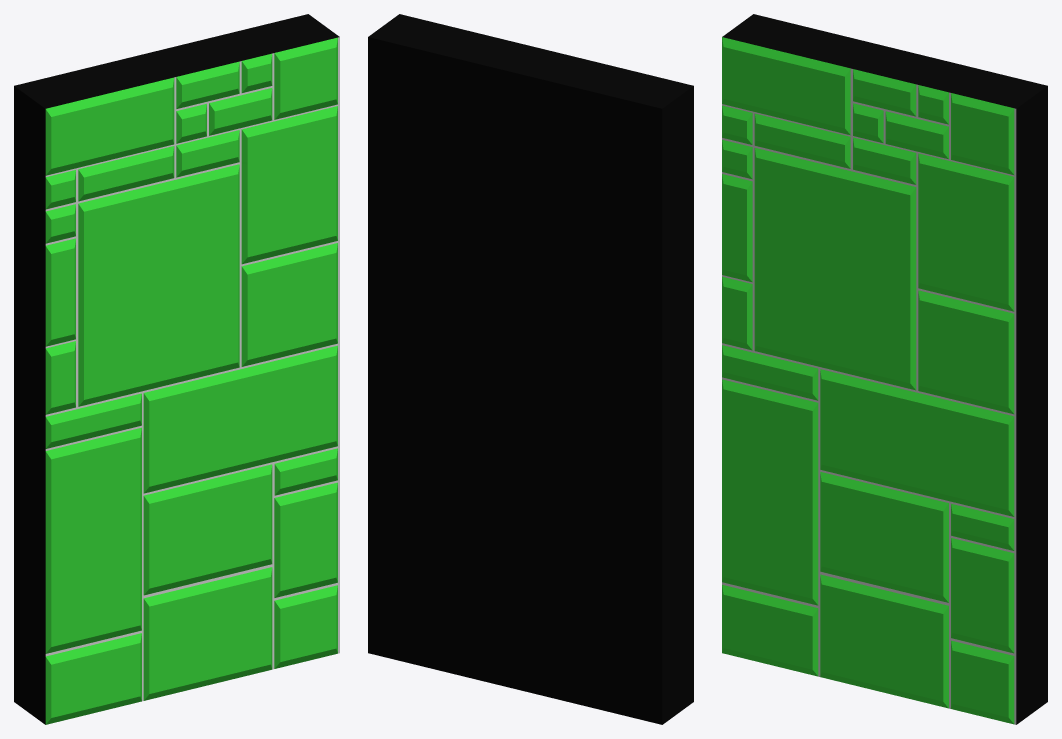
File: Wall 2.0.fbx
3 views of the same model, side by side, from view 1: azimuth 30°, elevation 25°; view 2: azimuth 150°, elevation 25°; view 3: azimuth 330°, elevation 25° (orthographic).
Visible parts, largest first — view 1: To Make Wall Original.002; view 2: To Make Wall Original.002; view 3: To Make Wall Original.002.
Part boxes in pixels (x1,y1,x2,y2): To Make Wall Original.002: (14, 14, 339, 724); To Make Wall Original.002: (368, 14, 693, 724); To Make Wall Original.002: (722, 14, 1047, 724).
Bounding box in the file's own units: 100 × 200 × 19.75.
